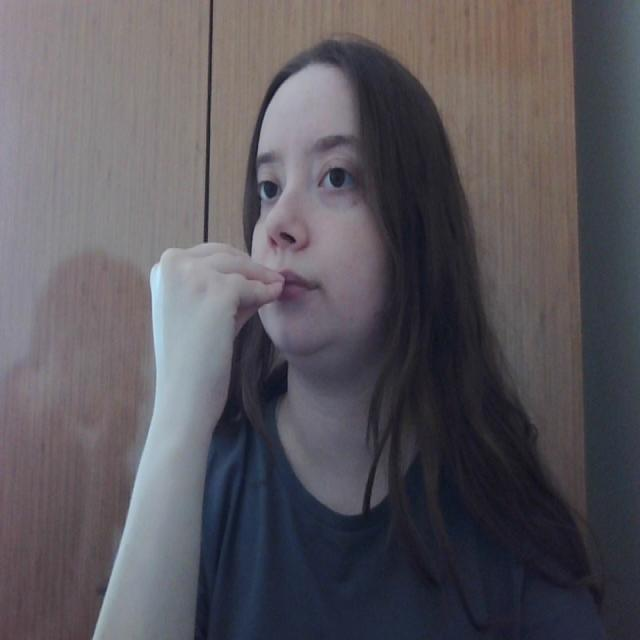Yemek: (140, 240, 314, 325)
